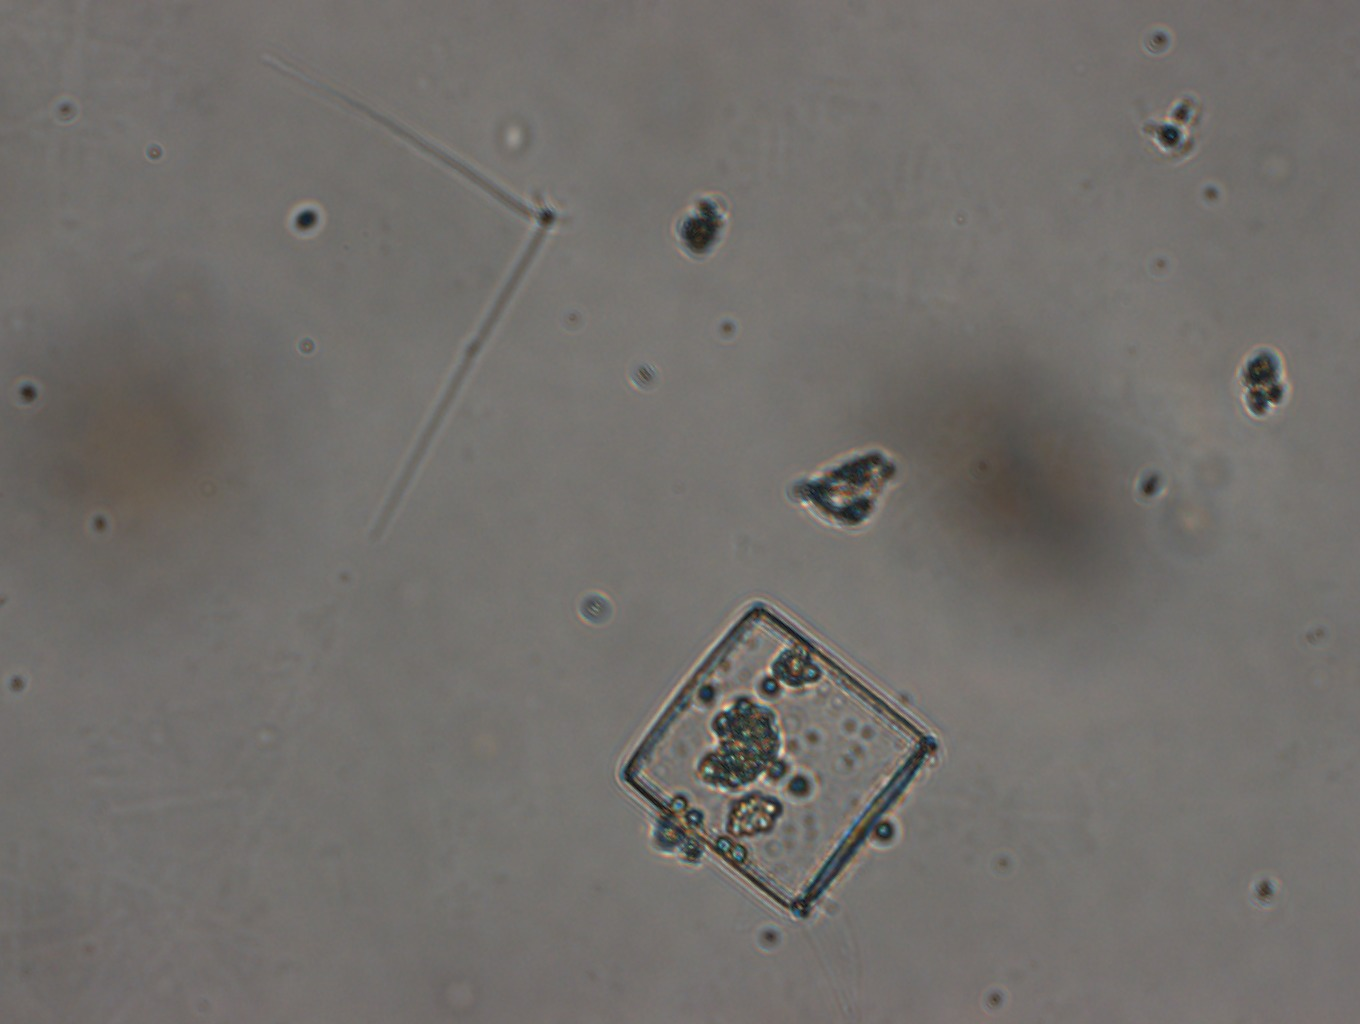guinardia flaccida: (614, 597, 934, 925)
